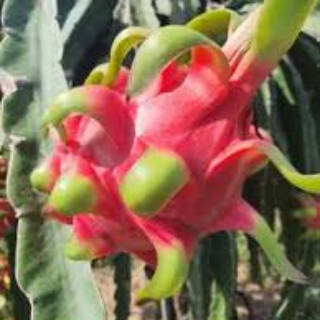thanh_long: (52, 40, 268, 268)
